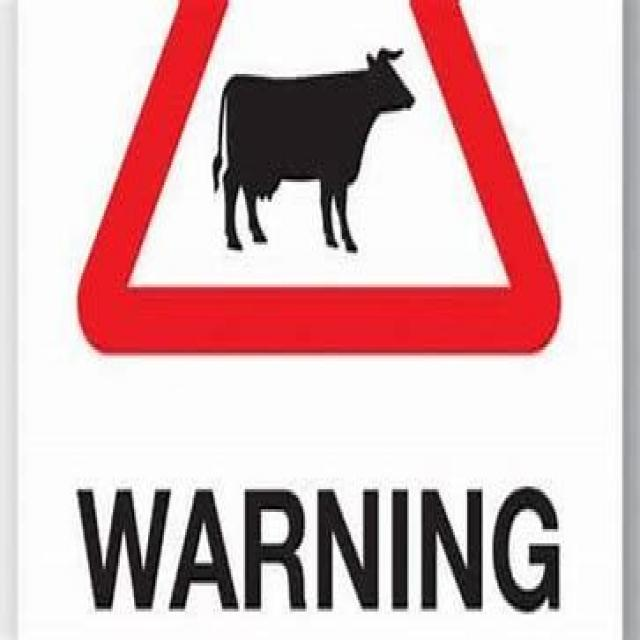CATTLE: (72, 0, 561, 381)
